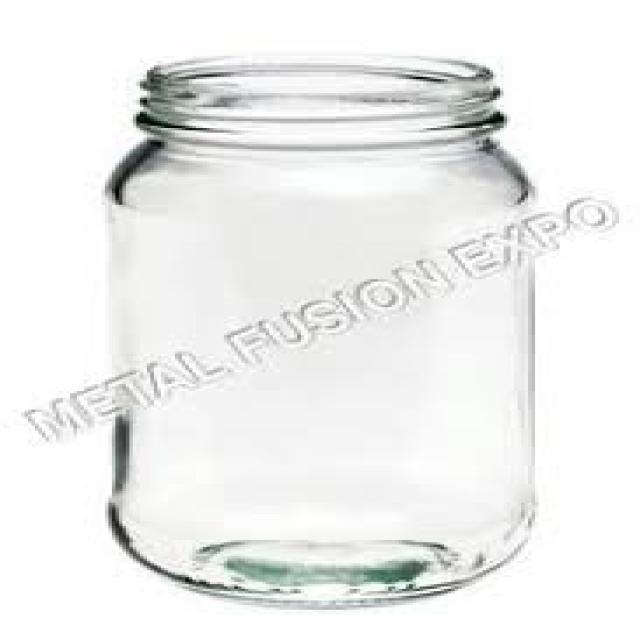glass: (109, 51, 539, 603)
